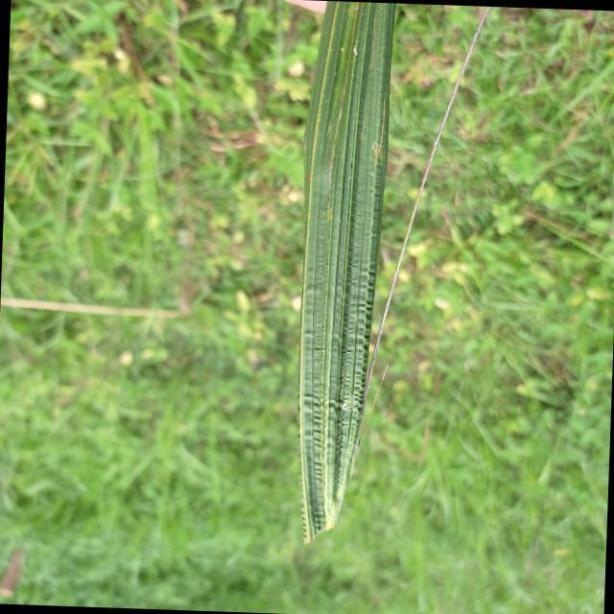Boron: (296, 2, 393, 554)
